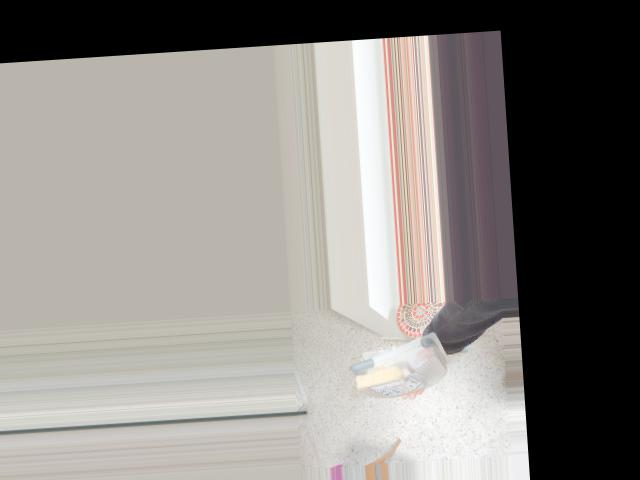cheese: (344, 324, 448, 400)
